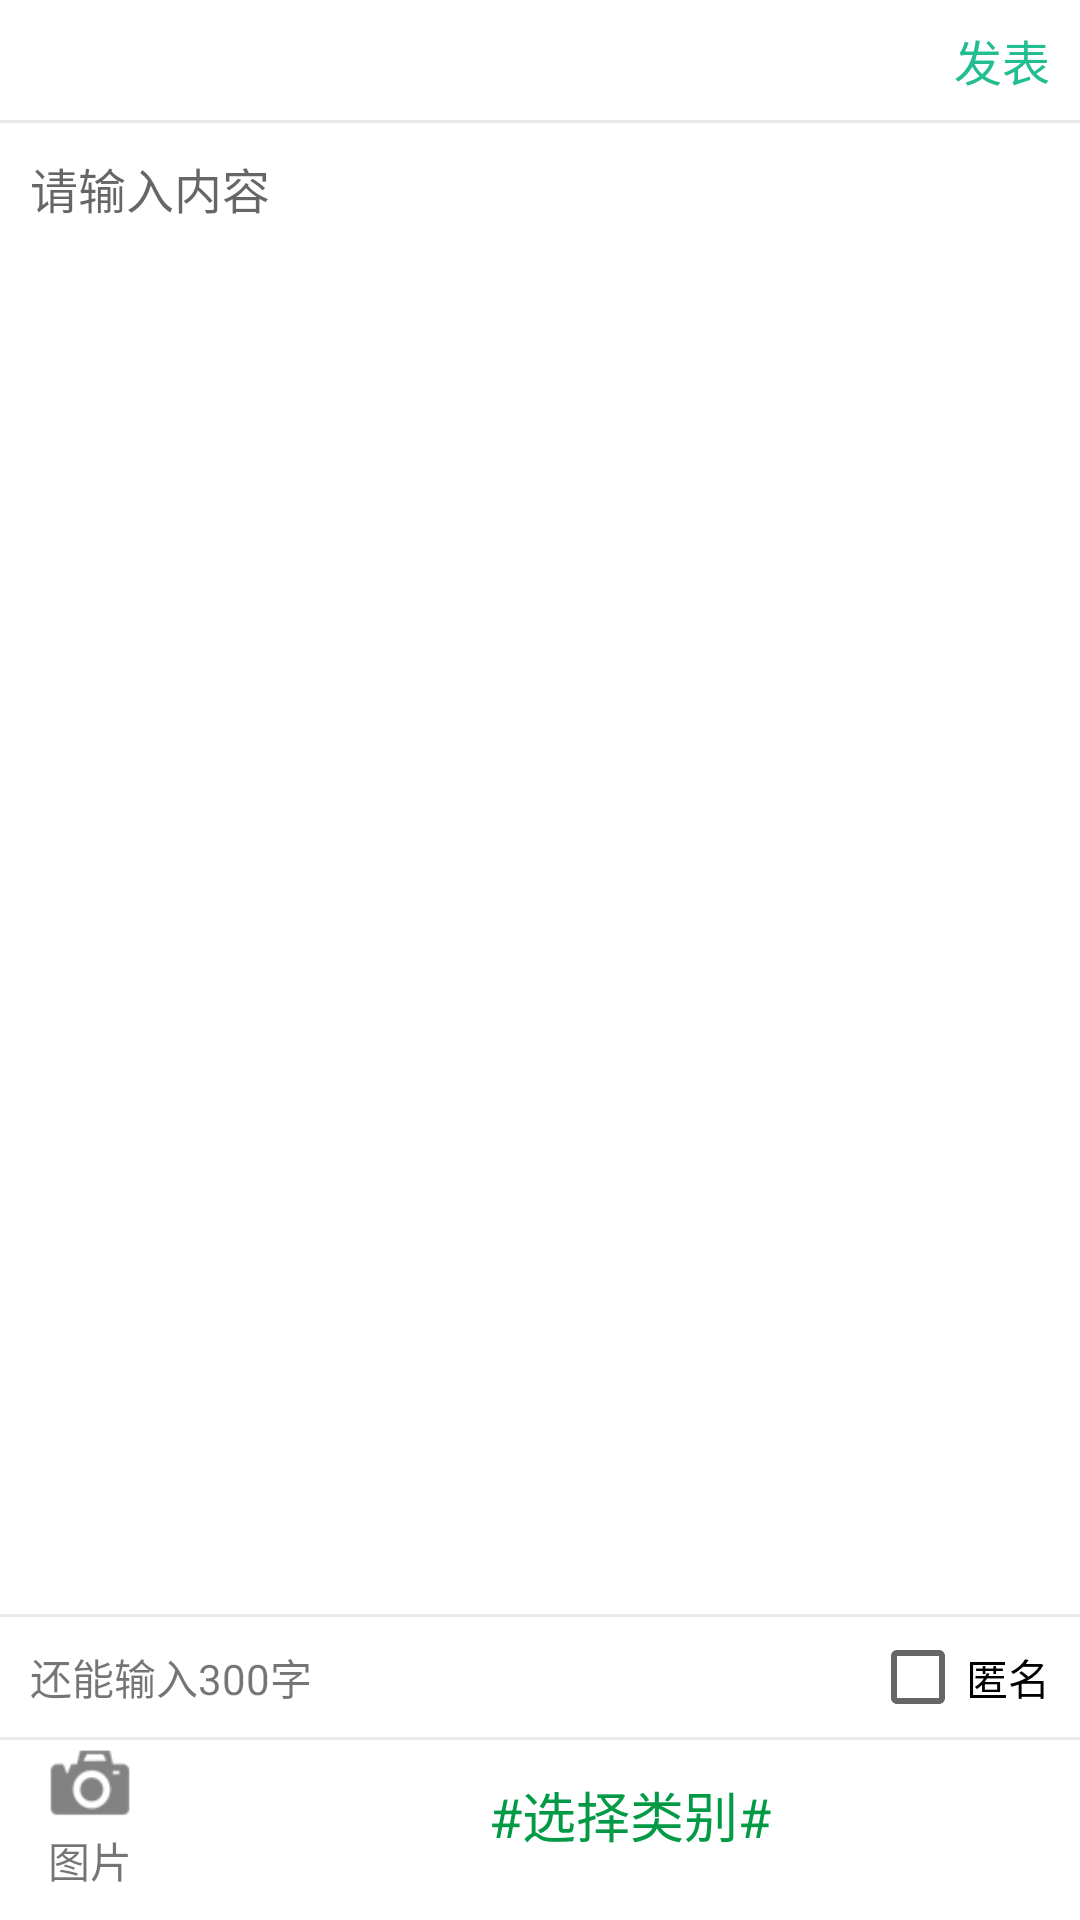

Locate icon controls on the screen. Image size 1080x1920, boxes as [left=x1, top=y1, right=x2, bottom=y2].
camera: [left=50, top=1750, right=130, bottom=1815]
